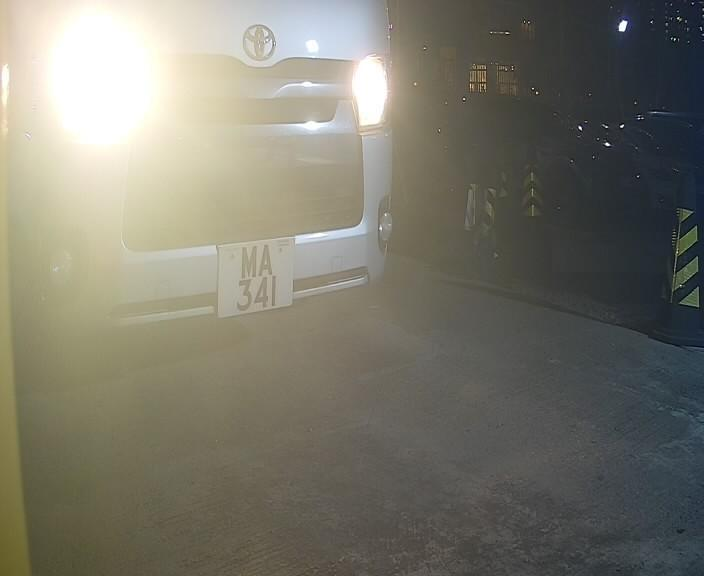privatecar: (7, 11, 434, 376)
